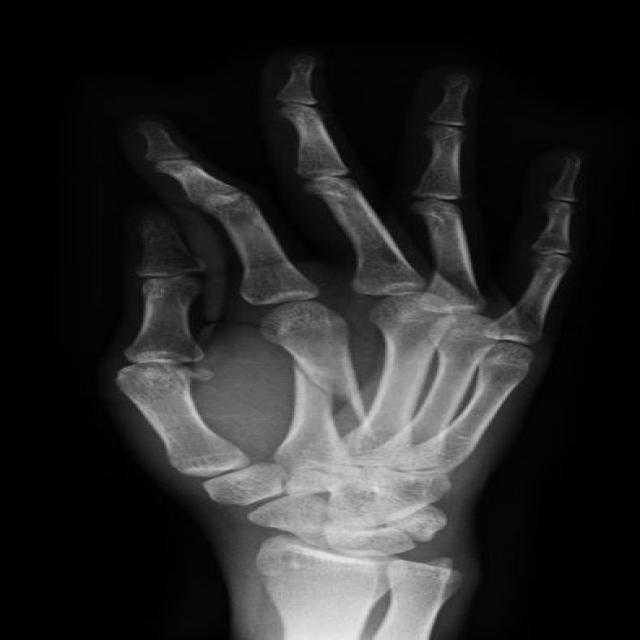fracture: (260, 345, 383, 431)
